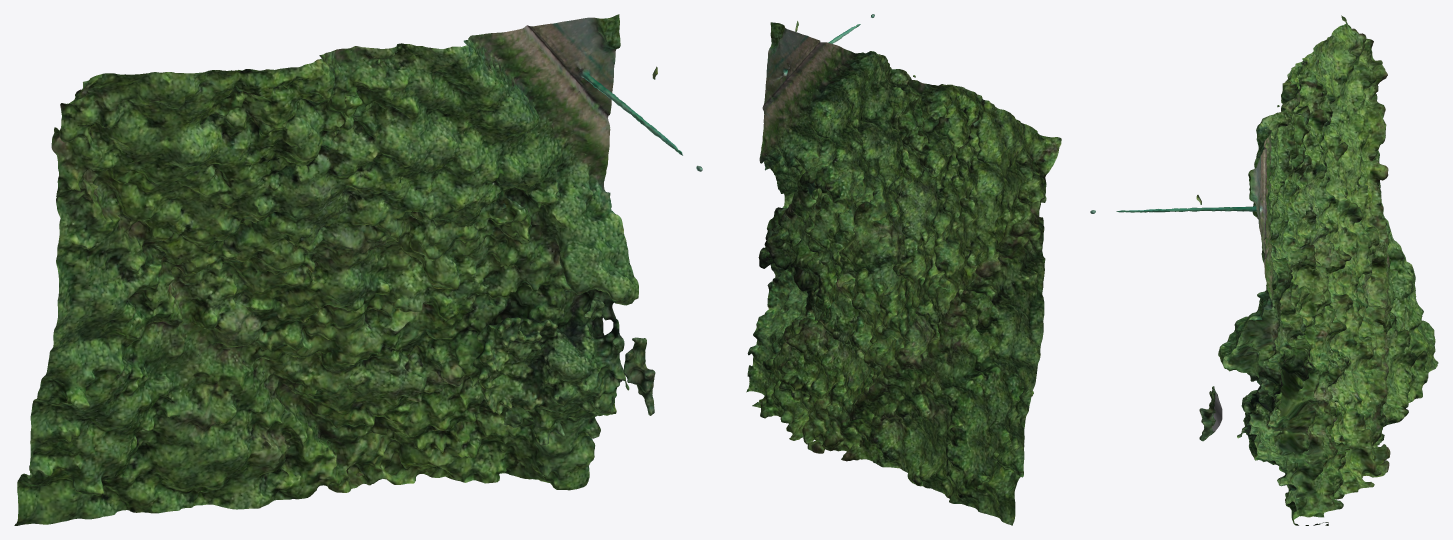
The model's file is Tile_+012_+005.fbx.
The picture shows the model from 3 angles, left to right: view 1: azimuth 30°, elevation 25°; view 2: azimuth 150°, elevation 25°; view 3: azimuth 270°, elevation 25°; orthographic projection. The views are drawn at different scales.
Visible parts, largest first — view 1: DefaultName; view 2: DefaultName; view 3: DefaultName.
Boxes of the visible parts, x1,y1,x2,y2 form: DefaultName: (14, 14, 702, 525); DefaultName: (746, 14, 1061, 525); DefaultName: (1090, 15, 1438, 525).
Size of the model in its own units: 22.54 by 22.54 by 20.4.
